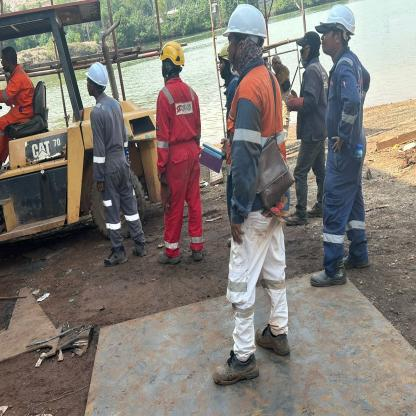bota: (211, 352, 258, 385), (308, 257, 349, 286), (255, 323, 288, 356), (341, 250, 370, 272), (100, 246, 129, 268), (155, 246, 183, 266), (284, 208, 309, 226), (129, 237, 148, 257), (307, 203, 325, 218), (189, 246, 202, 260)
